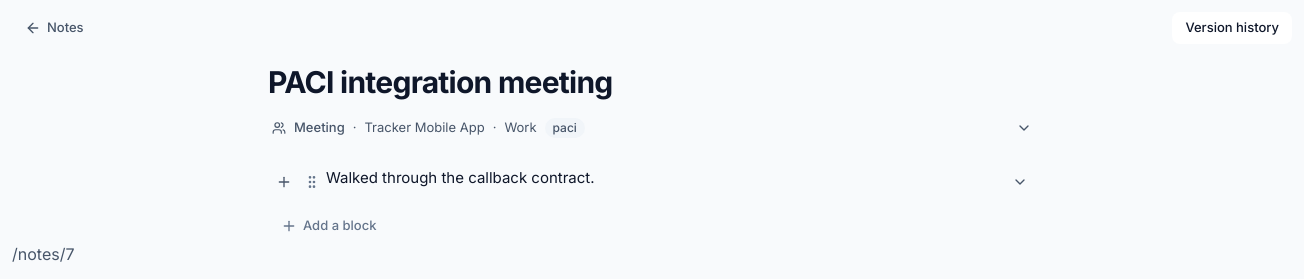
NotePage - autosave › debounces edits into one save and reports Saving then Saved
Type "!!" into the 1st text box named "Note title" at (652, 82), box top-left (268, 60), bottom-right (1036, 104)
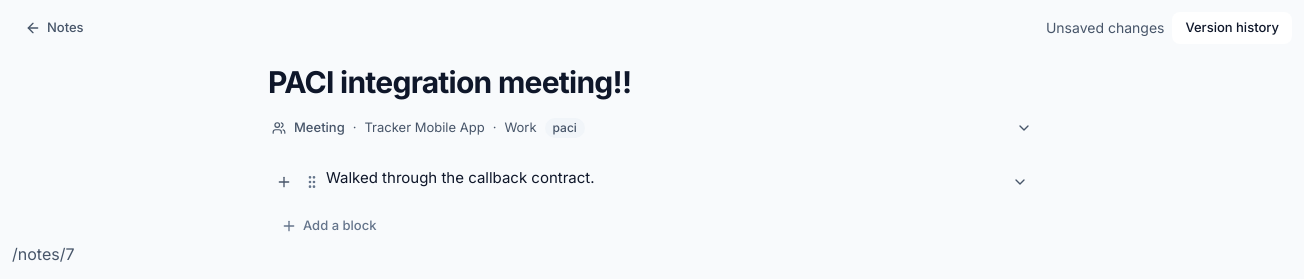
Now the text "Unsaved changes" is shown, box top-left (1046, 18), bottom-right (1164, 38)
Now the text "saved" is shown, box top-left (1046, 19), bottom-right (1164, 36)
